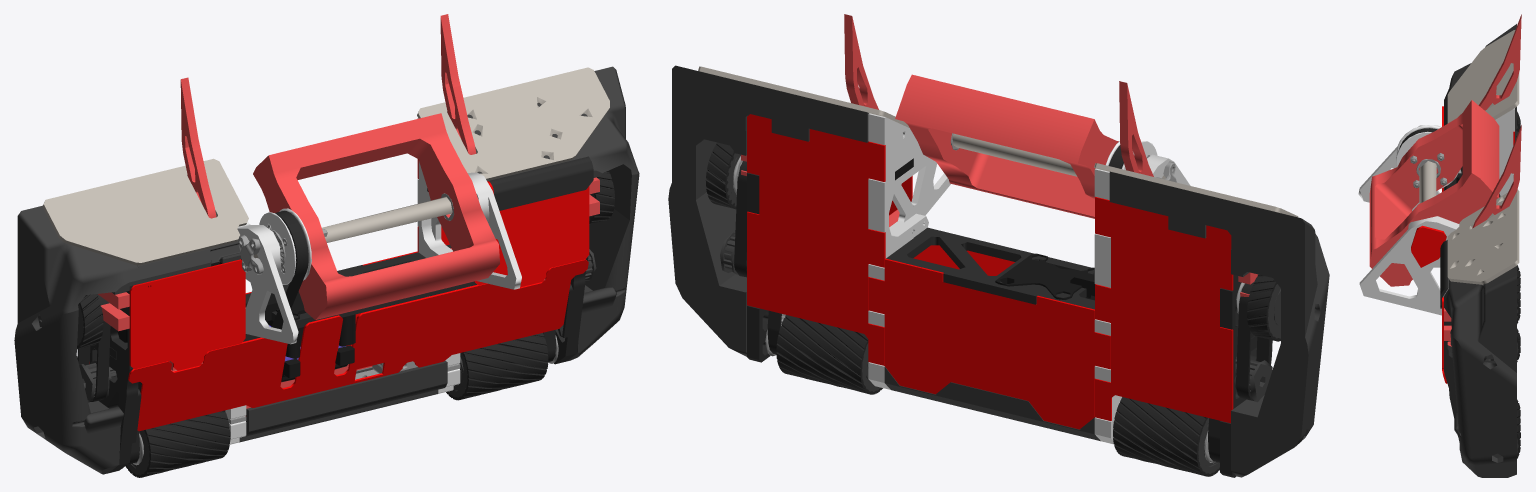
3 views of the same model, side by side, from view 1: azimuth 30°, elevation 25°; view 2: azimuth 150°, elevation 25°; view 3: azimuth 270°, elevation 25° (orthographic). The views are drawn at different scales.
Visible parts, largest first — view 1: Body1:147, Body1:22, Body2:47, Body1:13, Body2:11, Body1:15, Body1:148, Body1:1, Body2, Body1:11, Body1; view 2: Body1:147, Body1:22, Body1:13, Body2:11, Body1:148, Body1:15, Body2:47, Body1:1, Body1, Body2; view 3: Body1:13, Body1:22, Body2:47, Body1:148, Body1:147, Body1:15, Body2:11, Body1:11, Body2.
Part boxes in pixels (x1,y1,x2,y2): Body1:147: (89,159,589,431); Body1:22: (14,66,639,475); Body2:47: (42,67,609,265); Body1:13: (98,14,599,416); Body2:11: (77,170,614,477); Body1:15: (90,156,593,473); Body1:148: (225,118,521,444); Body1:1: (117,188,428,382); Body2: (109,193,558,468); Body1:11: (259,208,311,284); Body1: (79,249,596,401); Body1:147: (747,114,1233,429); Body1:22: (668,65,1329,477); Body1:13: (741,14,1257,296); Body2:11: (705,142,1280,476); Body1:148: (868,113,1190,444); Body1:15: (747,173,1272,477); Body2:47: (698,66,1298,217); Body1:1: (895,158,1236,310); Body1: (720,232,1272,402); Body2: (733,133,1244,463); Body1:13: (1369,14,1521,346); Body1:22: (1444,24,1518,477); Body2:47: (1419,30,1519,284); Body1:148: (1358,108,1514,315); Body1:147: (1411,106,1514,383); Body1:15: (1440,173,1461,440); Body2:11: (1399,111,1520,458); Body1:11: (1396,125,1458,189); Body2: (1410,153,1447,188).
Bounding box in the file's own units: 50.29 × 29.14 × 13.51.
